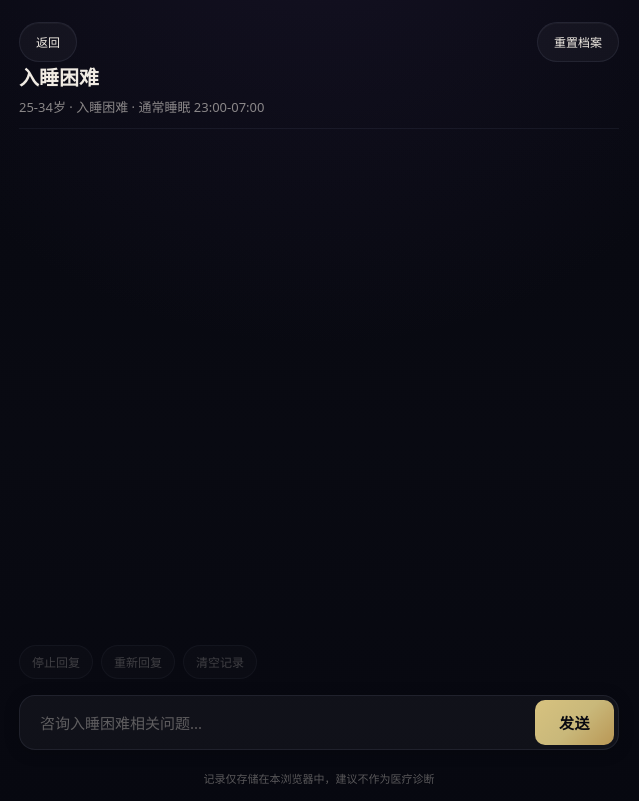
ChatPage › stops an in-flight reply and keeps only the user message
Type "这次先停止" into the field with placeholder "咨询入睡困难相关问题...". click: coordinates (275, 723)
box: left=24, top=700, right=525, bottom=745
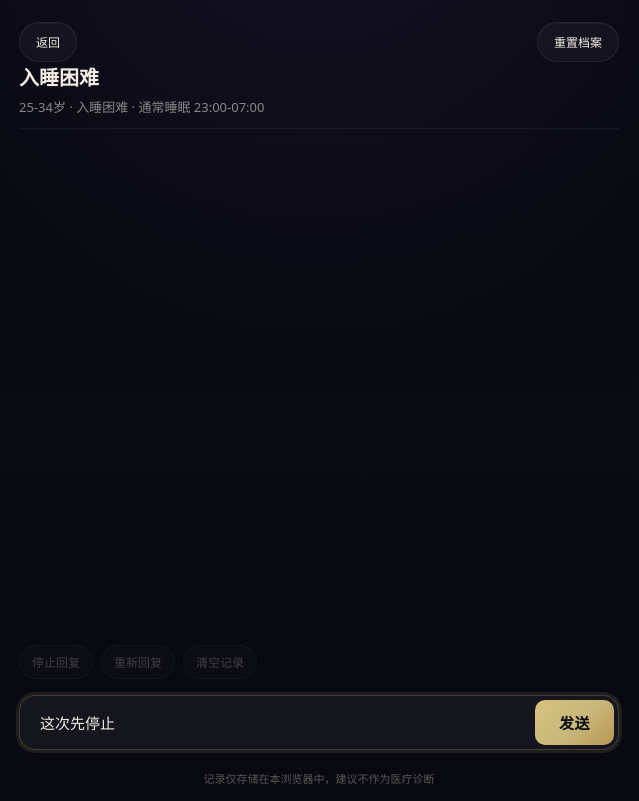
Click the button "发送". click: coordinates (575, 723)
box: left=535, top=700, right=614, bottom=745
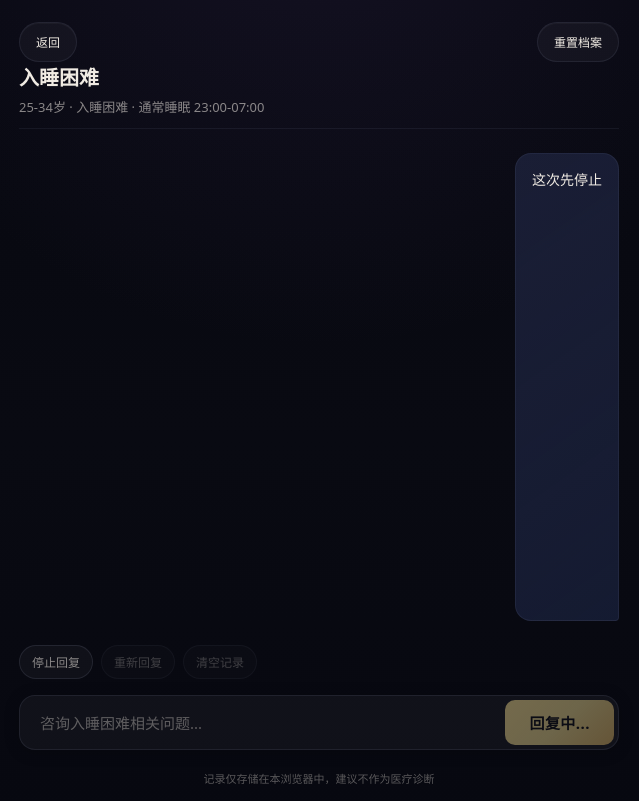
Click the button "停止回复". click: coordinates (56, 662)
box: left=19, top=645, right=93, bottom=679
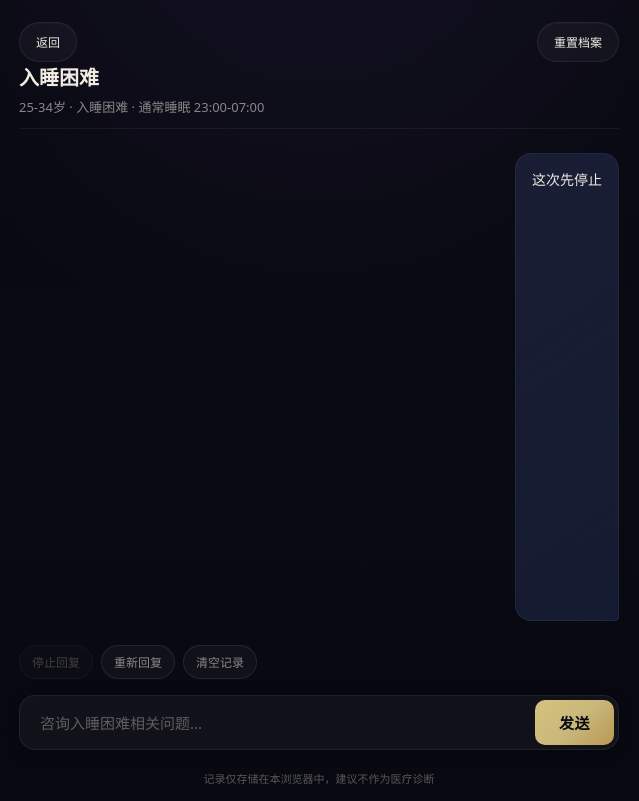
expect the text "这次先停止" is shown: met, box left=532, top=168, right=602, bottom=192
expect the button "发送" is enabled: met, box left=535, top=700, right=614, bottom=745
